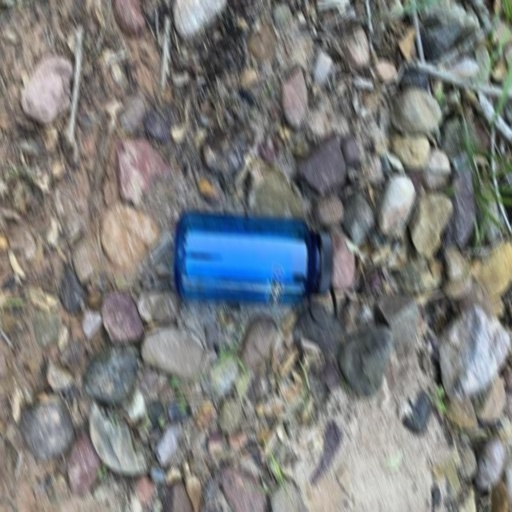bottle: (173, 210, 337, 326)
